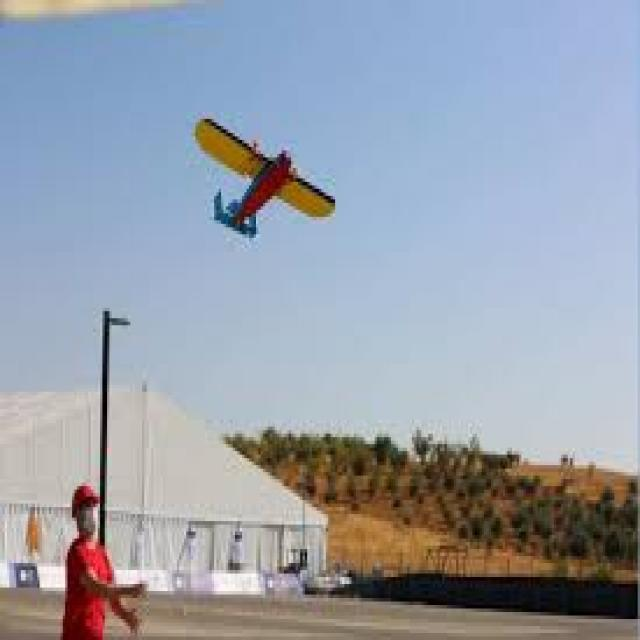iha: (179, 104, 333, 247)
